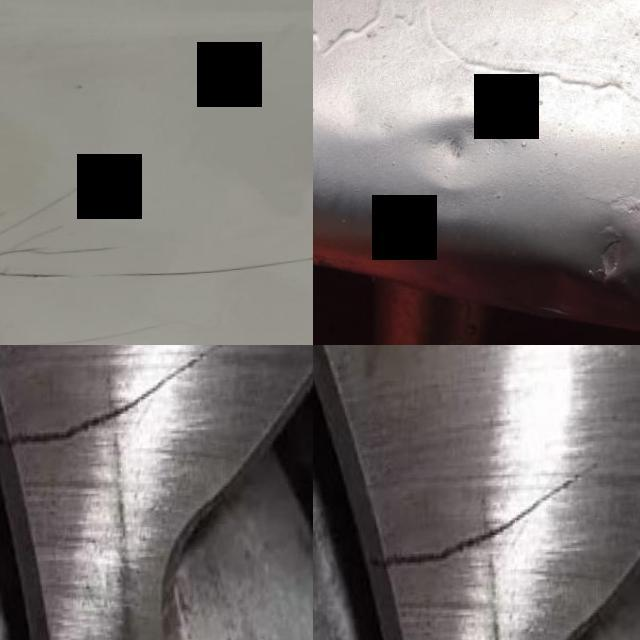Crack: (0, 168, 313, 345), (370, 459, 602, 579), (0, 345, 227, 458)
Dent: (392, 83, 552, 234), (549, 197, 640, 313)
